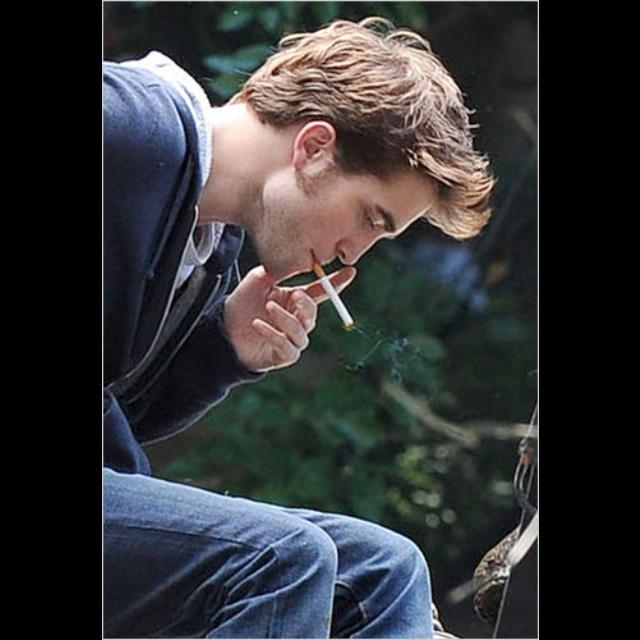rokok: (306, 254, 358, 336)
